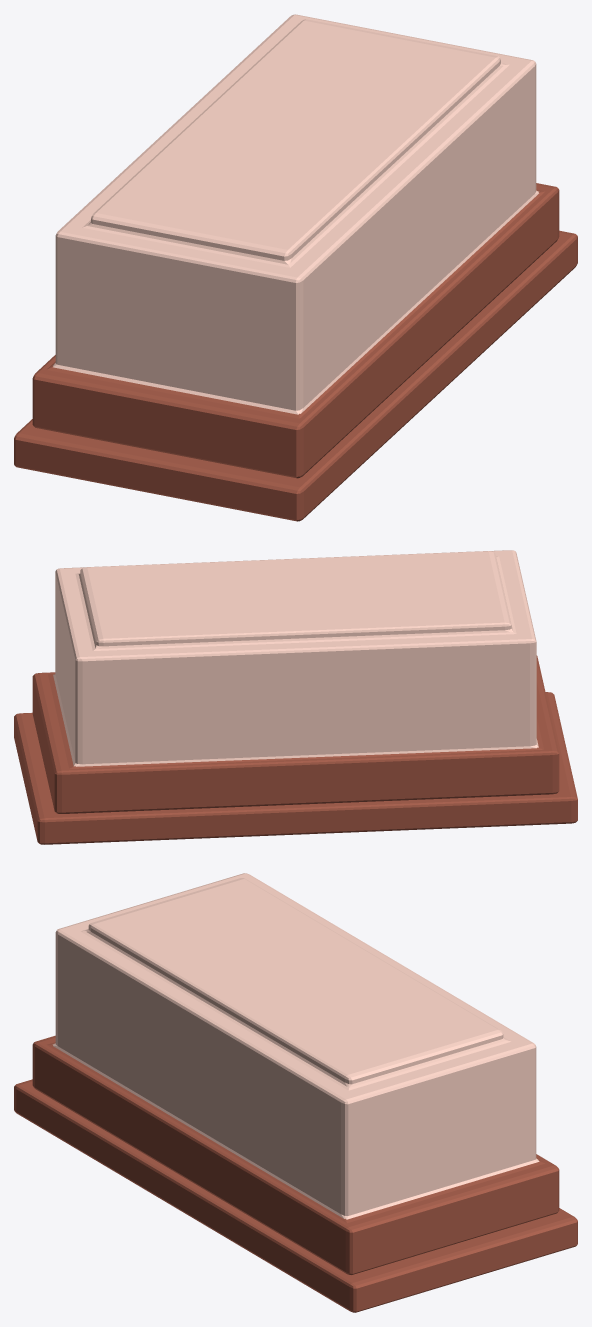
Rendered from item-stand8.fbx.
The picture shows the model from 3 angles, top to bottom: view 1: azimuth 30°, elevation 25°; view 2: azimuth 150°, elevation 25°; view 3: azimuth 270°, elevation 25°; orthographic projection. The views are drawn at different scales.
Visible parts, largest first — view 1: Cube.004; view 2: Cube.004; view 3: Cube.004.
Boxes of the visible parts, <box> form: Cube.004: <box>14,14,577,521</box>; Cube.004: <box>14,550,577,844</box>; Cube.004: <box>14,873,577,1312</box>.
Size of the model in its own units: 1654 by 581 by 1463.
